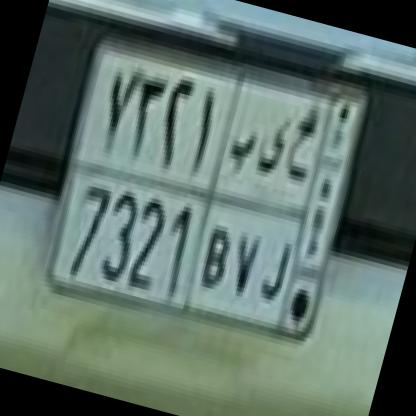english: (43, 152, 324, 342)
